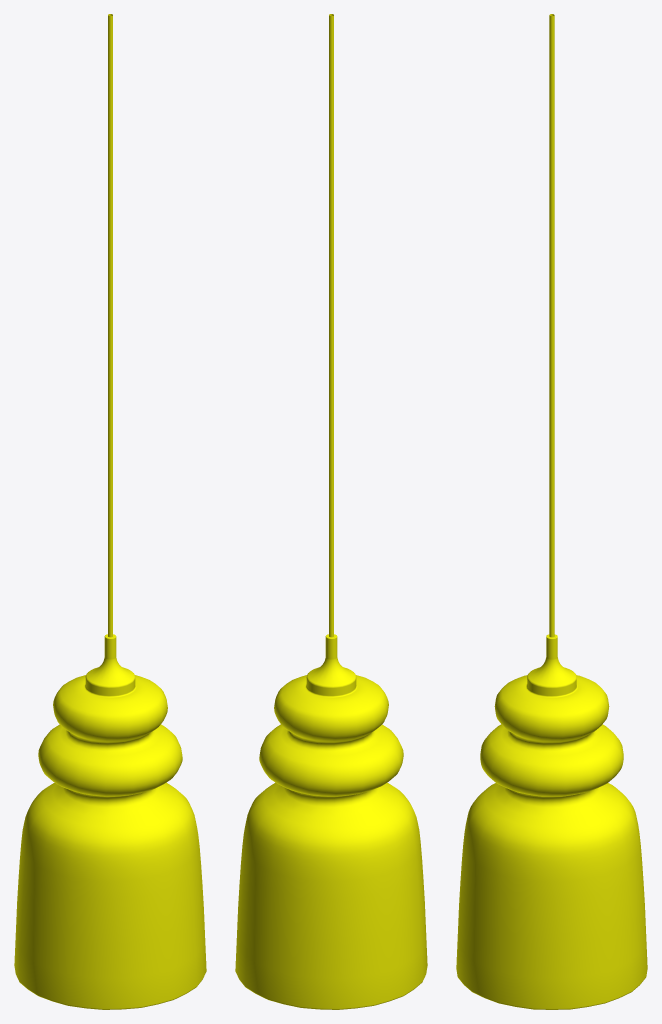
The model's file is ceiling_lamp_yellow.obj.
The picture shows the model from 3 angles, left to right: view 1: azimuth 30°, elevation 25°; view 2: azimuth 150°, elevation 25°; view 3: azimuth 270°, elevation 25°; orthographic projection.
Visible parts, largest first — view 1: obj; view 2: obj; view 3: obj.
Boxes of the visible parts, x1=… form: obj: x1=14, y1=14, x2=206, y2=1009; obj: x1=235, y1=14, x2=427, y2=1009; obj: x1=456, y1=14, x2=647, y2=1009.
Size of the model in its own units: 18.27 by 101 by 18.27.
